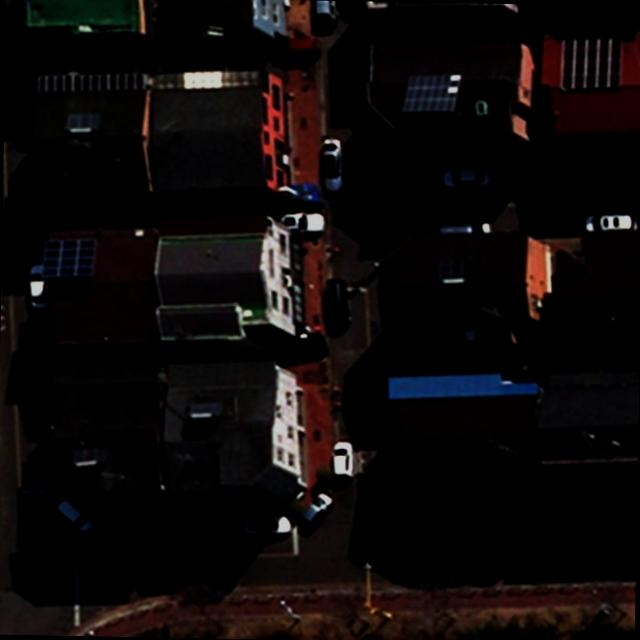solar: (558, 37, 623, 92), (394, 72, 460, 116), (38, 237, 98, 278)
